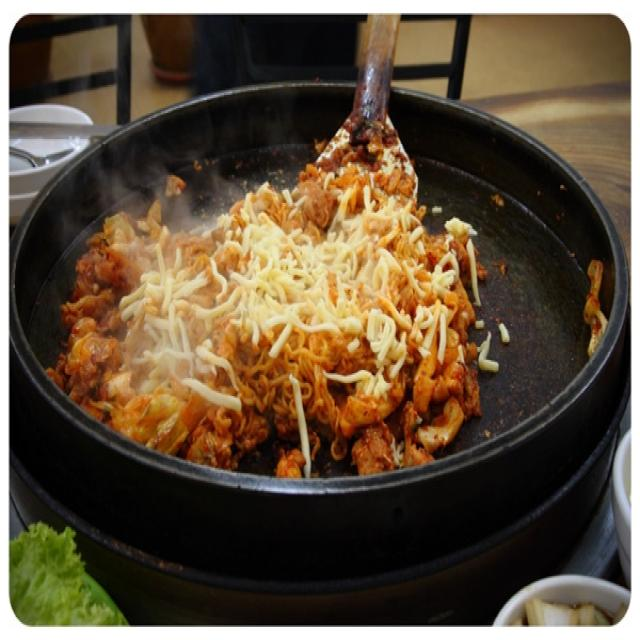鸡肉料理 含炸鸡: (53, 77, 556, 527)
